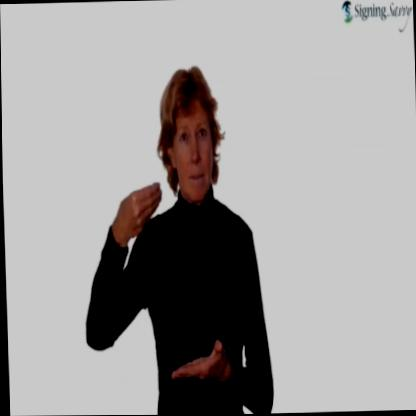Expensive: (103, 185, 231, 393)
